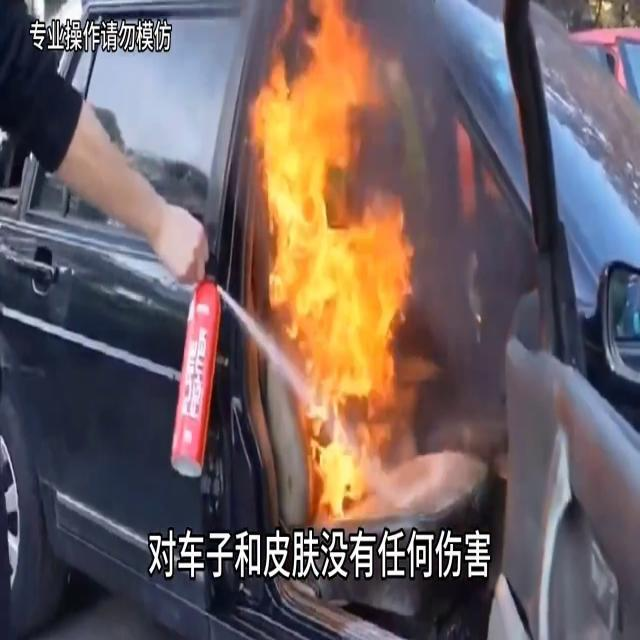Fire: (243, 1, 429, 514)
